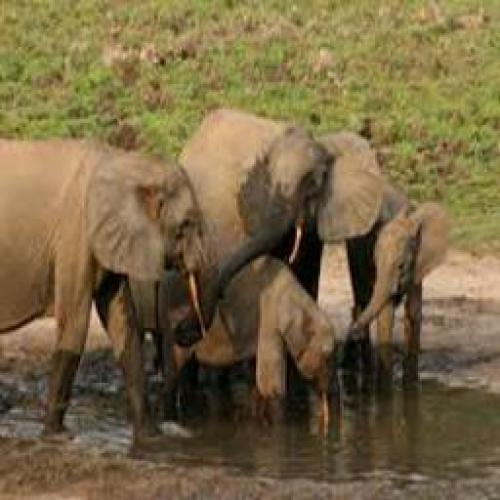african_elephant-endangered: (0, 136, 212, 455), (181, 103, 387, 307), (186, 253, 333, 427), (346, 203, 450, 384)
